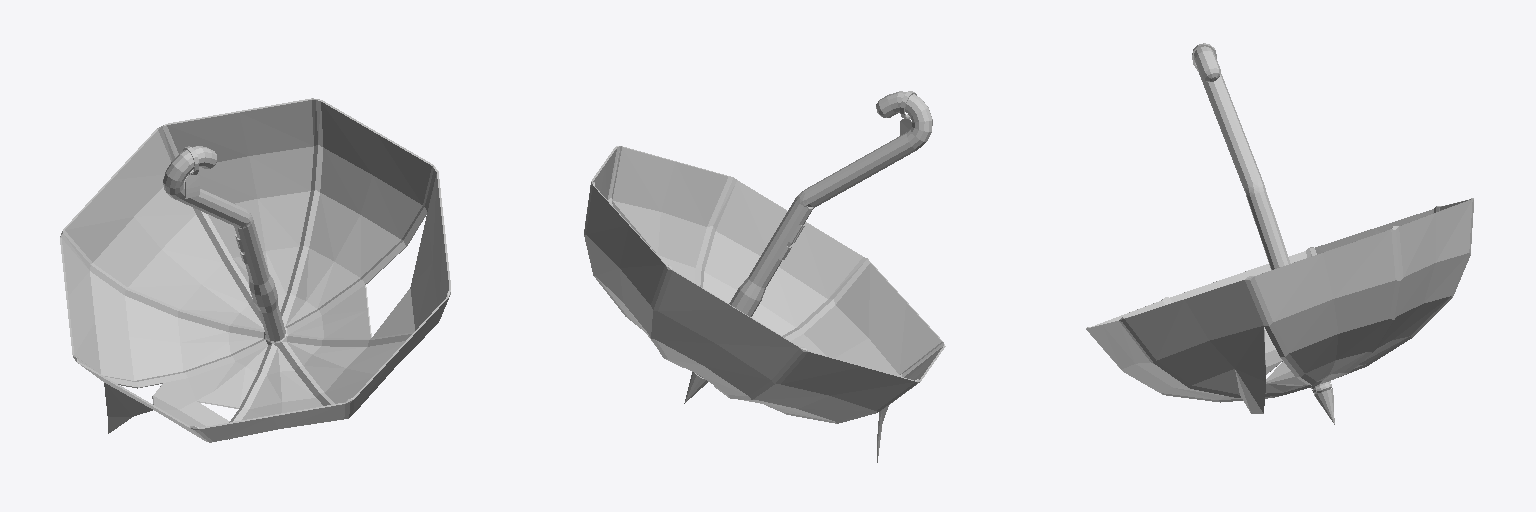
The model's file is SpaciousUmbrellaMesh.obj.
The picture shows the model from 3 angles: view 1: azimuth 30°, elevation 25°; view 2: azimuth 150°, elevation 25°; view 3: azimuth 270°, elevation 25°; orthographic projection.
Visible parts, largest first — view 1: SpaciousUmbrellaMesh_Spacious_Umbrella; view 2: SpaciousUmbrellaMesh_Spacious_Umbrella; view 3: SpaciousUmbrellaMesh_Spacious_Umbrella.
Part boxes in pixels (x1,y1,x2,y2): SpaciousUmbrellaMesh_Spacious_Umbrella: (60, 98, 450, 442); SpaciousUmbrellaMesh_Spacious_Umbrella: (584, 91, 945, 462); SpaciousUmbrellaMesh_Spacious_Umbrella: (1086, 43, 1473, 424).
Size of the model in its own units: 1.83 by 1.71 by 1.86.